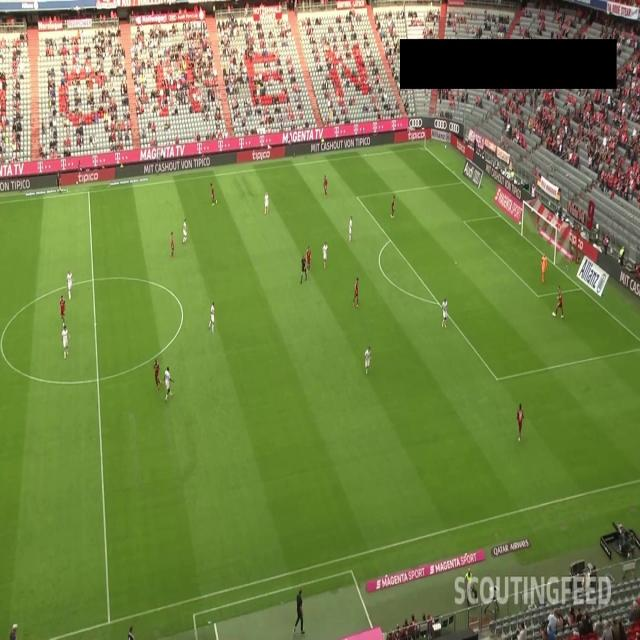ball: (550, 306, 556, 321)
player: (61, 324, 71, 358), (208, 300, 218, 334), (363, 342, 372, 376), (557, 283, 565, 318), (164, 364, 172, 399), (153, 360, 162, 391), (65, 268, 74, 298), (208, 181, 218, 205), (517, 402, 523, 441), (322, 242, 330, 271), (59, 296, 67, 324), (441, 296, 448, 326), (305, 245, 313, 269), (542, 251, 548, 281), (354, 277, 360, 303), (389, 192, 395, 218), (183, 218, 189, 243), (323, 174, 330, 194), (170, 229, 175, 254), (349, 214, 353, 242), (265, 192, 270, 212)
